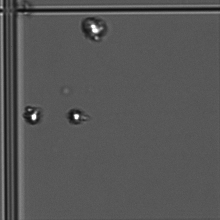Living Cell: (81, 16, 108, 43), (23, 107, 42, 124), (67, 108, 84, 124)
